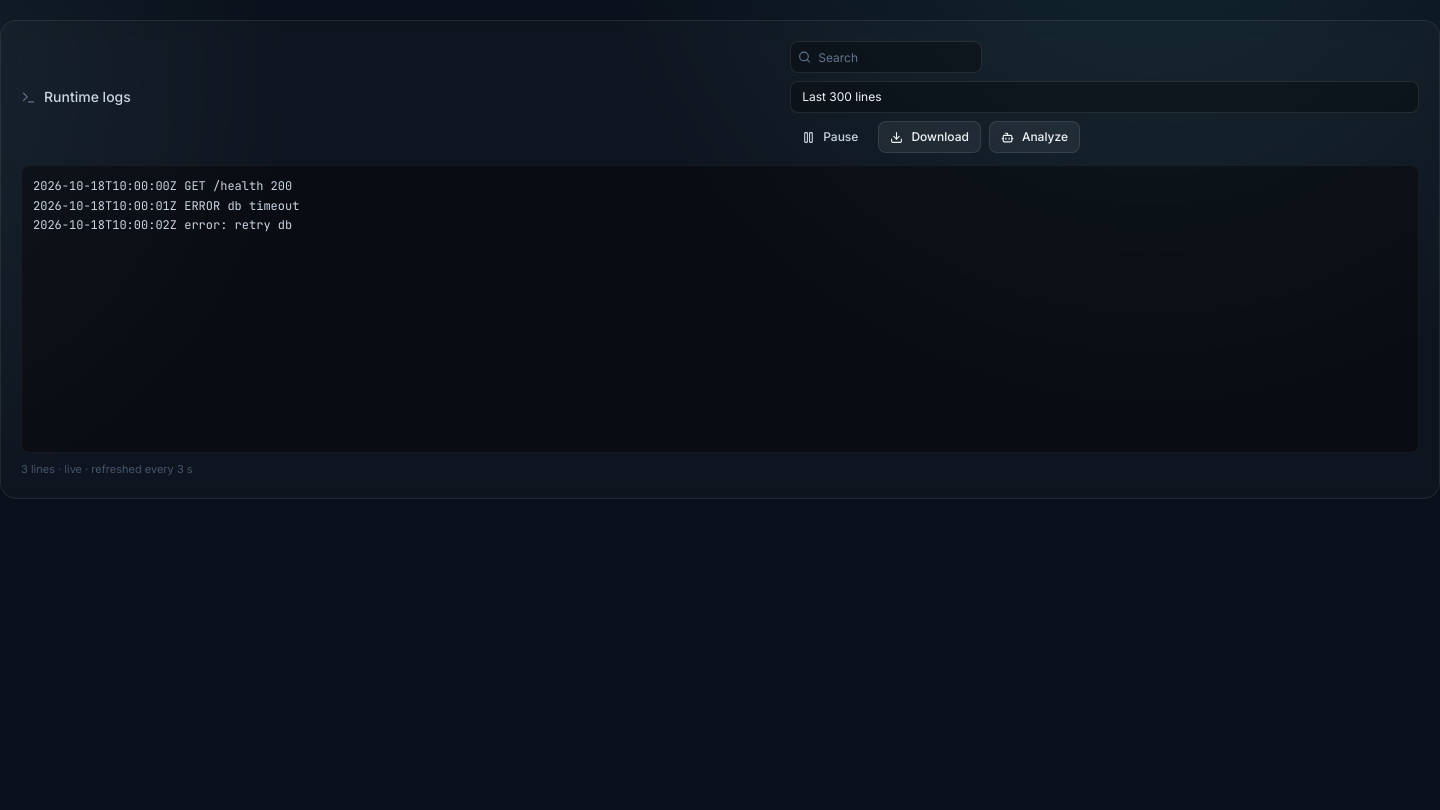
Test: RuntimeLogsCard › 0.16.15: analyzes the lines on screen with the configured provider, and closes the answer
Click the button with aria-label "Analyze logs with AI" at (1034, 137), box x1=989 y1=121 x2=1080 y2=153
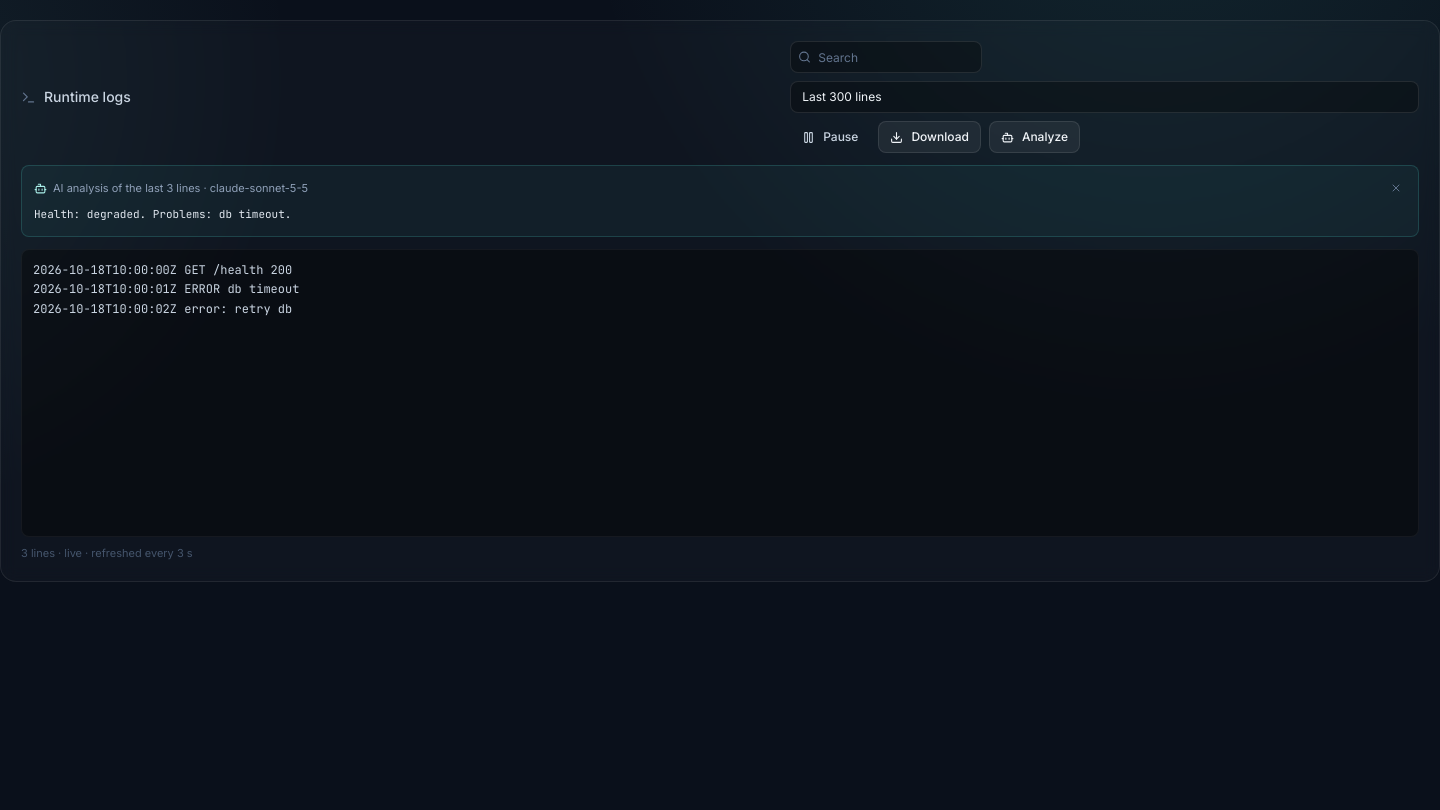
Expected: the text "Health: degraded. Problems: db timeout." is shown, x1=34 y1=207 x2=291 y2=221
Expected: the text "AI analysis of the last 3 lines · claude-sonnet-5-5" is shown, x1=34 y1=180 x2=308 y2=196
Click the button named "Close the analysis" at (1396, 188), box x1=1386 y1=178 x2=1406 y2=198
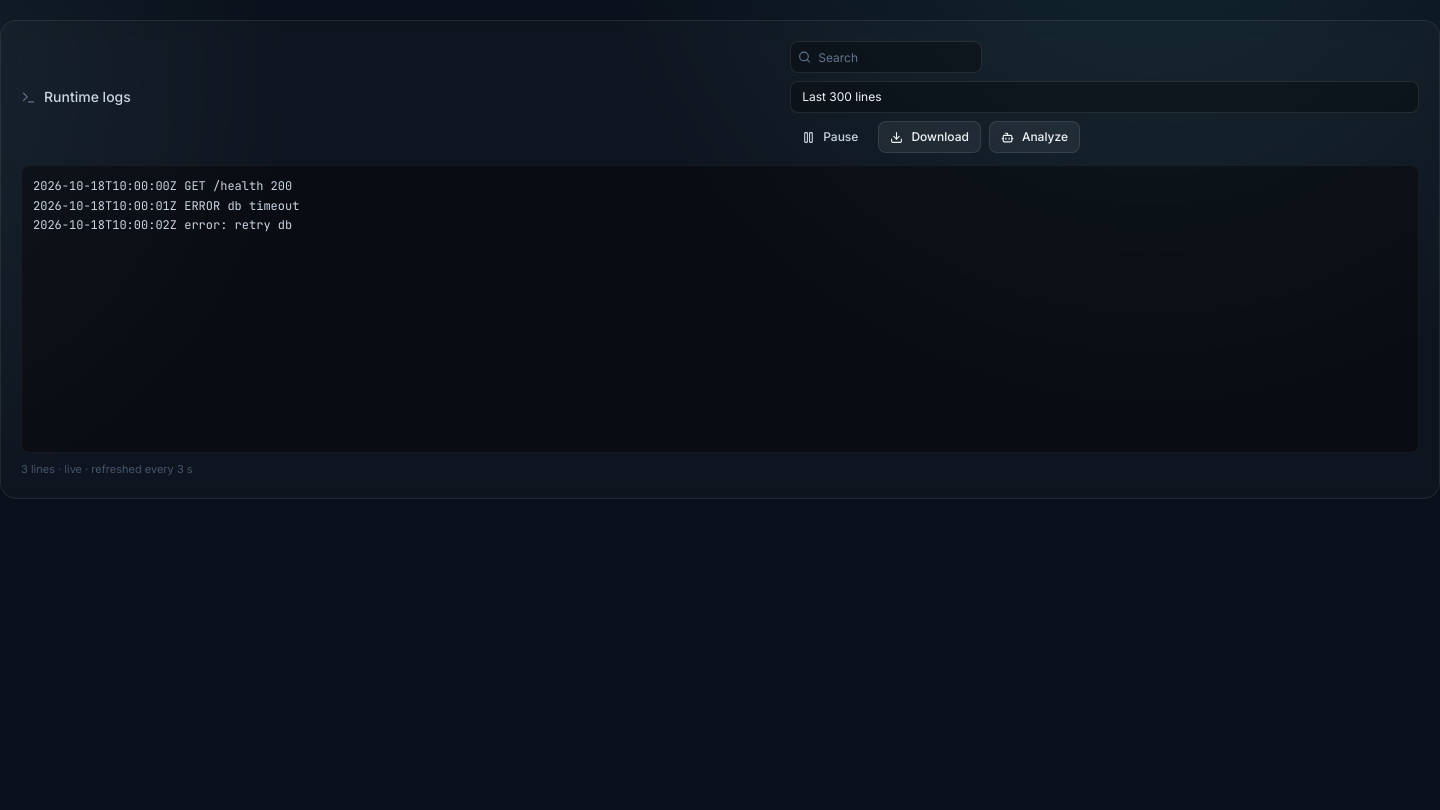
Expected: the text "AI analysis of the last" is gone
